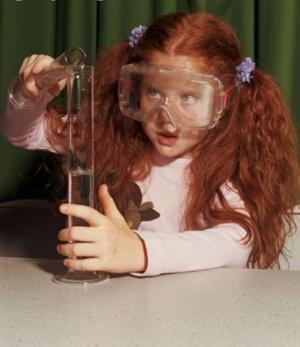person: (2, 14, 292, 278)
